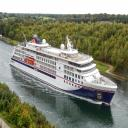cruises: (10, 32, 119, 109)
